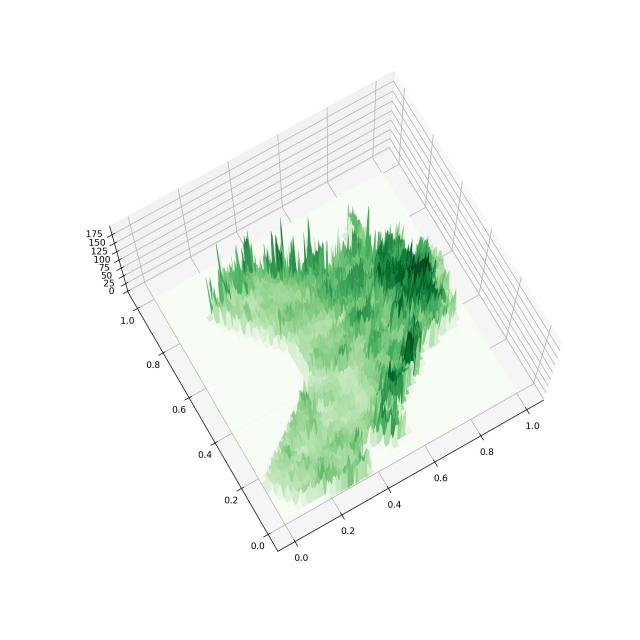spruce: (68, 45, 579, 582)
